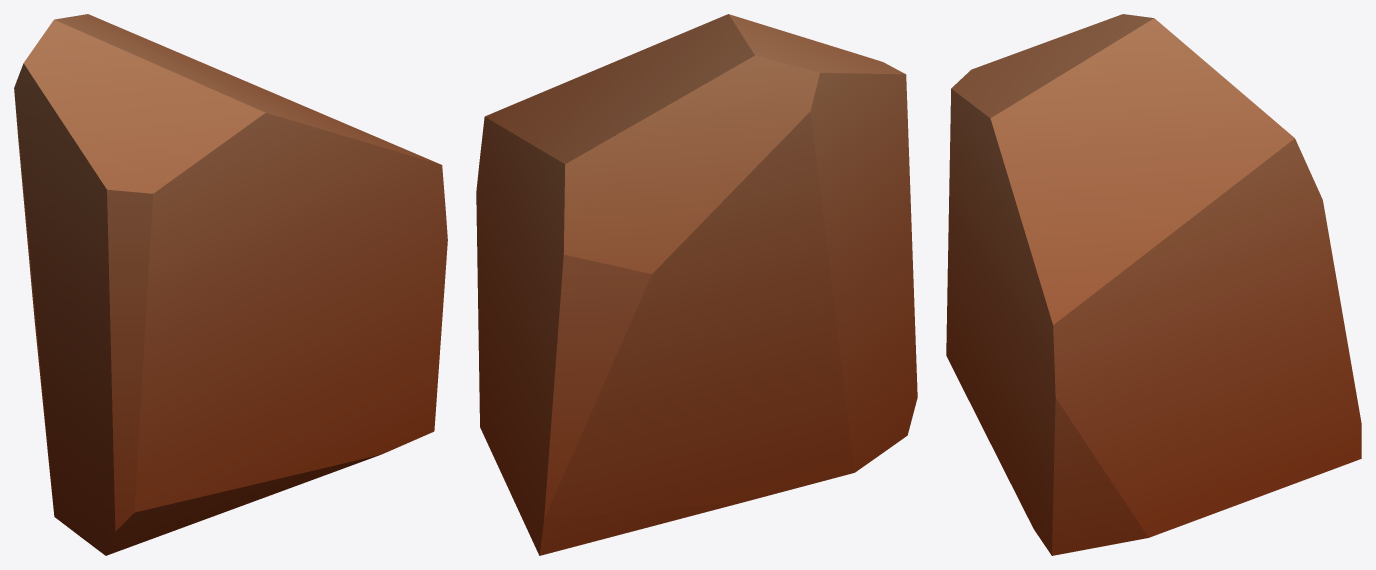
Rendered from rock05.fbx.
3 renders of one model, left to right at view 1: azimuth 30°, elevation 25°; view 2: azimuth 150°, elevation 25°; view 3: azimuth 270°, elevation 25°, orthographic. The views are drawn at different scales.
Visible parts, largest first — view 1: Rock05; view 2: Rock05; view 3: Rock05.
Part boxes in pixels (bbox=[...]): Rock05: bbox=[14, 14, 447, 555]; Rock05: bbox=[476, 14, 917, 555]; Rock05: bbox=[946, 14, 1361, 555].
Bounding box in the file's own units: 115 × 127 × 120.
